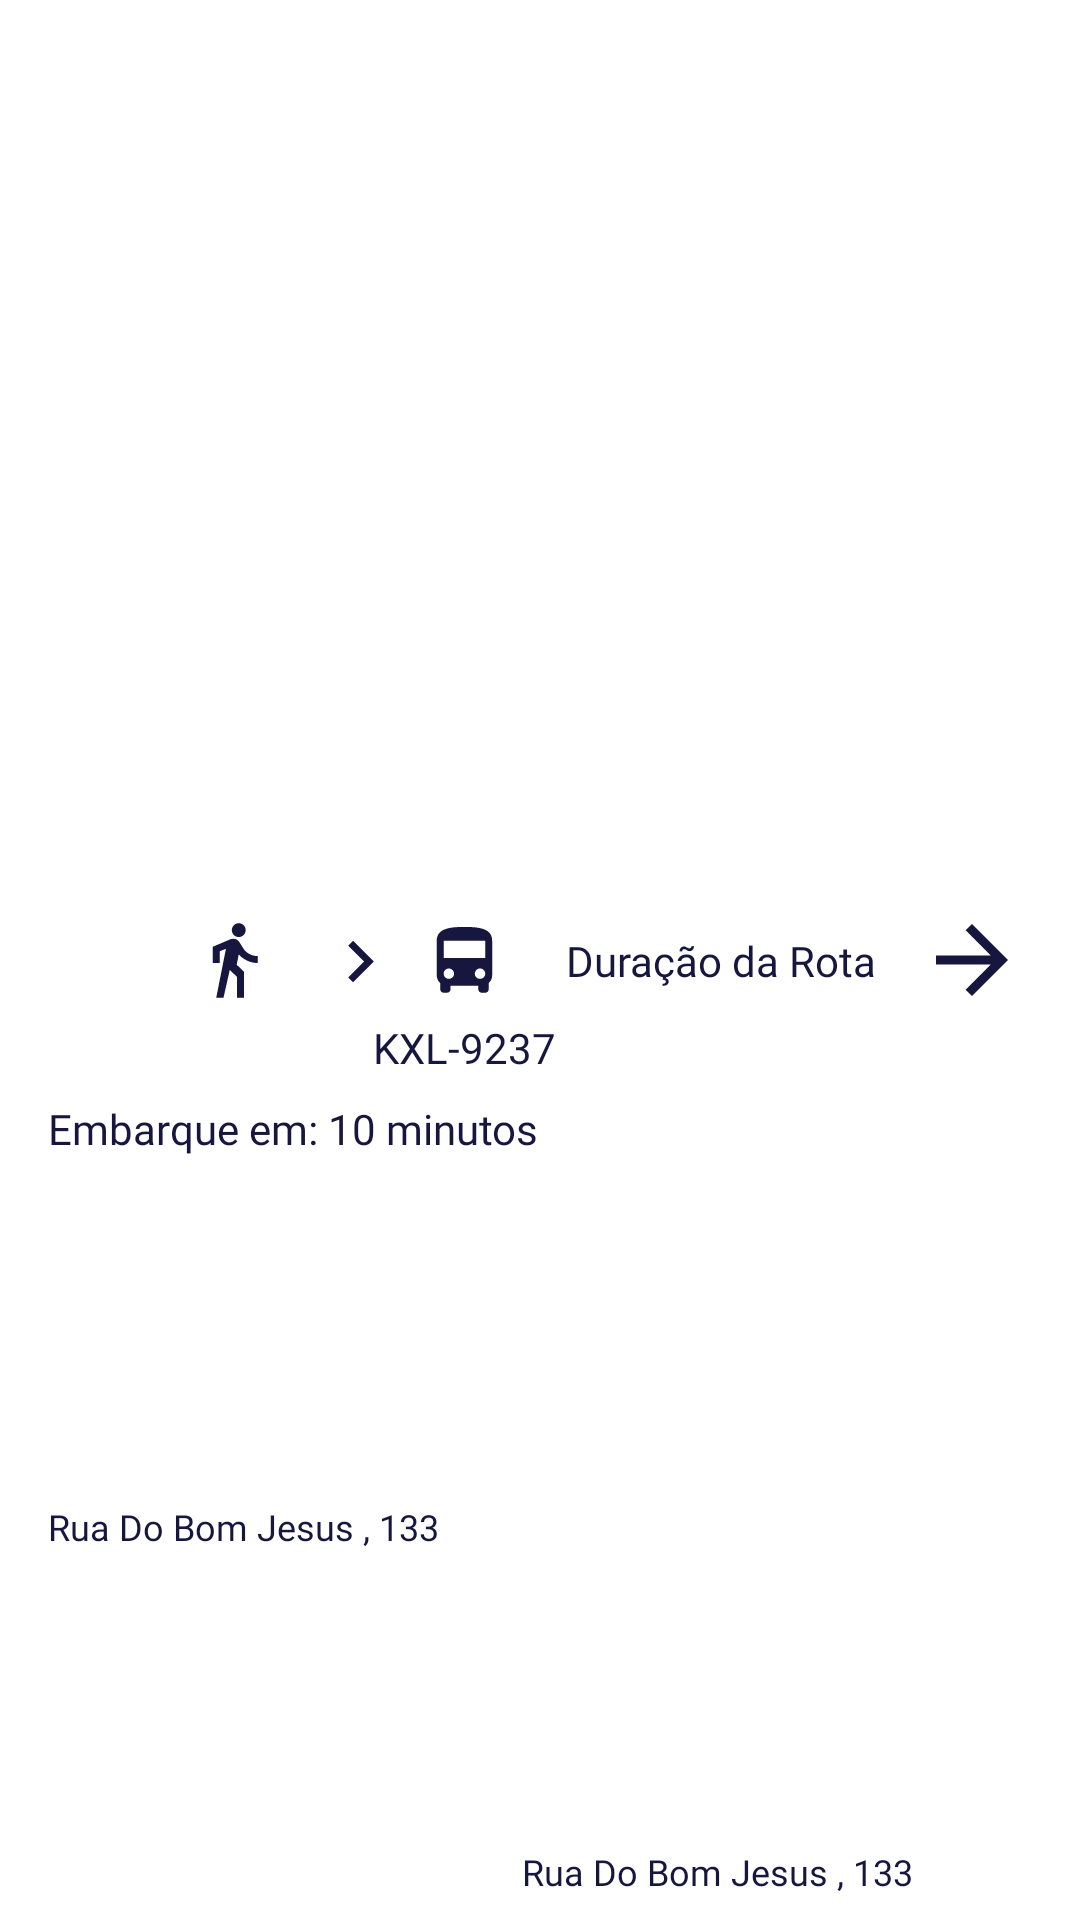

Icon click points for this 1080 x 1920 phone screenshot, format (x,y):
arrow: (361,961)
biggerarrow: (972,960)
bus: (464,960)
pedestre: (235,960)
